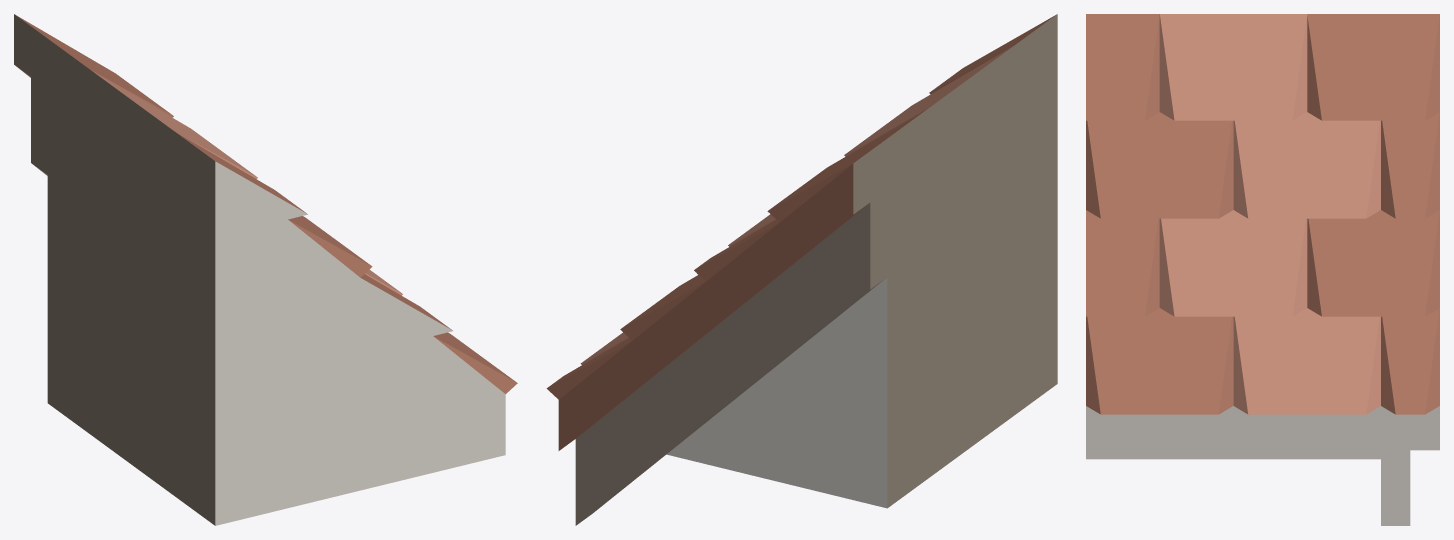
File: Roof_Straight_Side_Edge.glb
The picture shows the model from 3 angles, left to right: view 1: azimuth 30°, elevation 25°; view 2: azimuth 150°, elevation 25°; view 3: azimuth 270°, elevation 25°; orthographic projection. The views are drawn at different scales.
Visible parts, largest first — view 1: object1; view 2: object1; view 3: object1.
Part boxes in pixels (x1=…): object1: x1=14, y1=14, x2=517, y2=525; object1: x1=546, y1=14, x2=1057, y2=525; object1: x1=1086, y1=14, x2=1439, y2=525.
Size of the model in its own units: 1.07 by 1.45 by 1.2.
